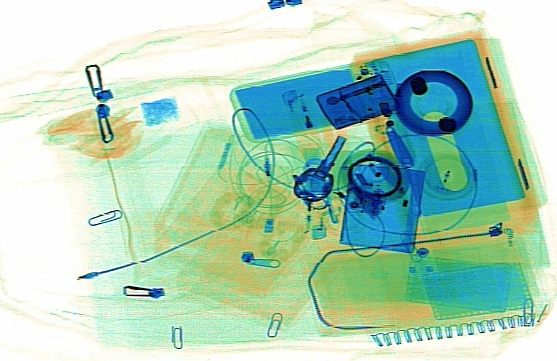lighter: (315, 73, 402, 130), (277, 84, 328, 168), (302, 171, 325, 243)
